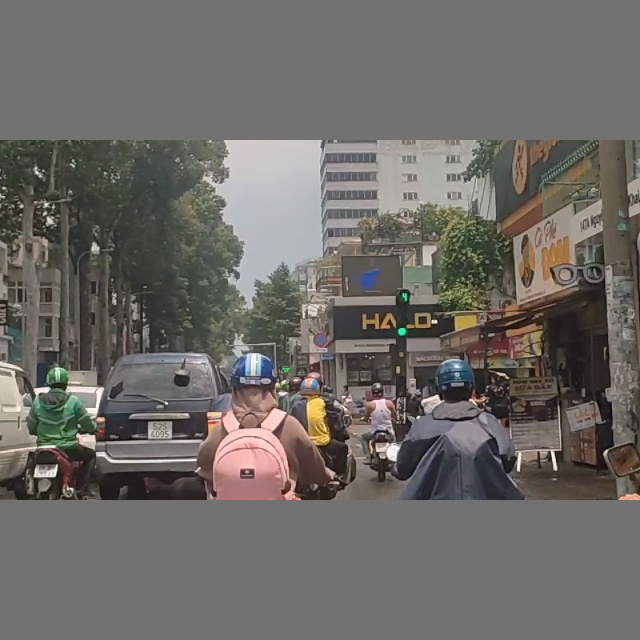P.131a: (313, 332, 329, 347)
